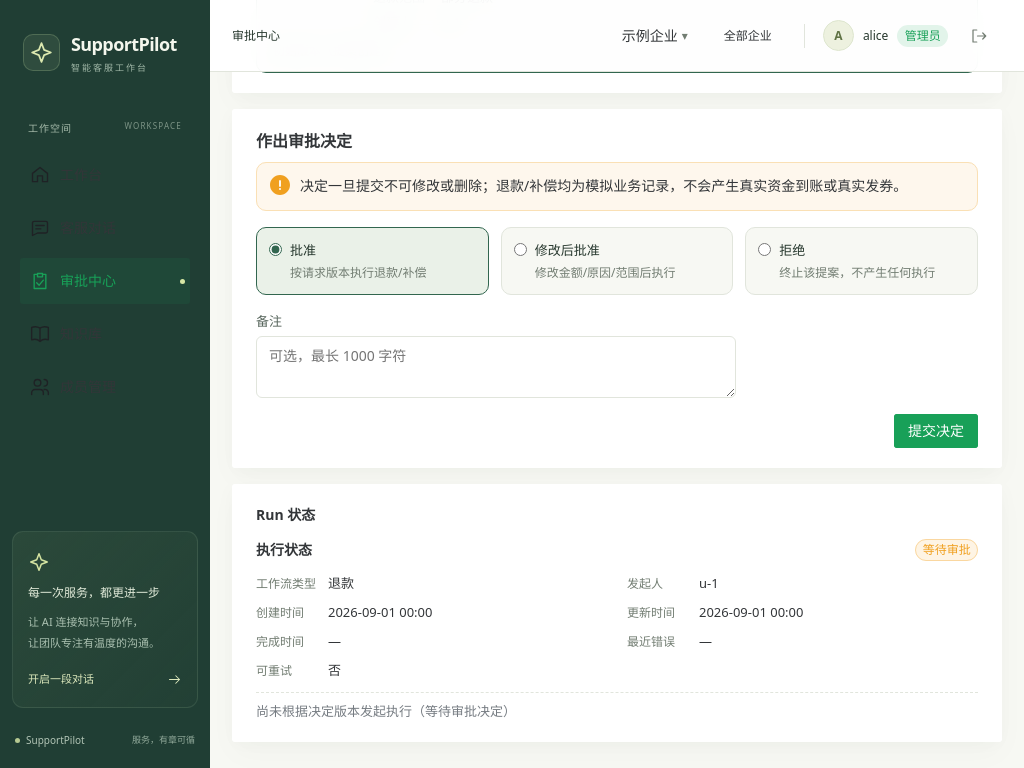
it: ApprovalDetailView 决定流转 › 202：提示决定已保存，保留恢复入口
(page scrolled)
Click the button with test id "submit-decision" at {"x": 936, "y": 431}, box [894,414,978,448]
(page scrolled)
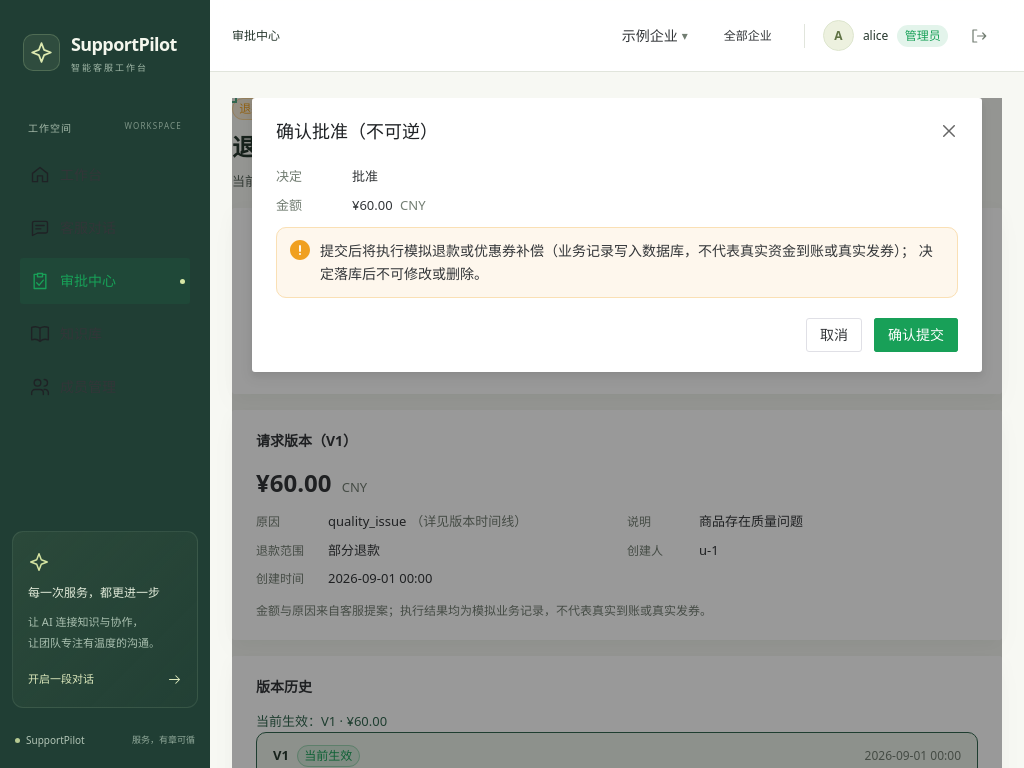
Click the button with test id "confirm-decision" at {"x": 916, "y": 335}, box [874,318,958,352]
(page scrolled)
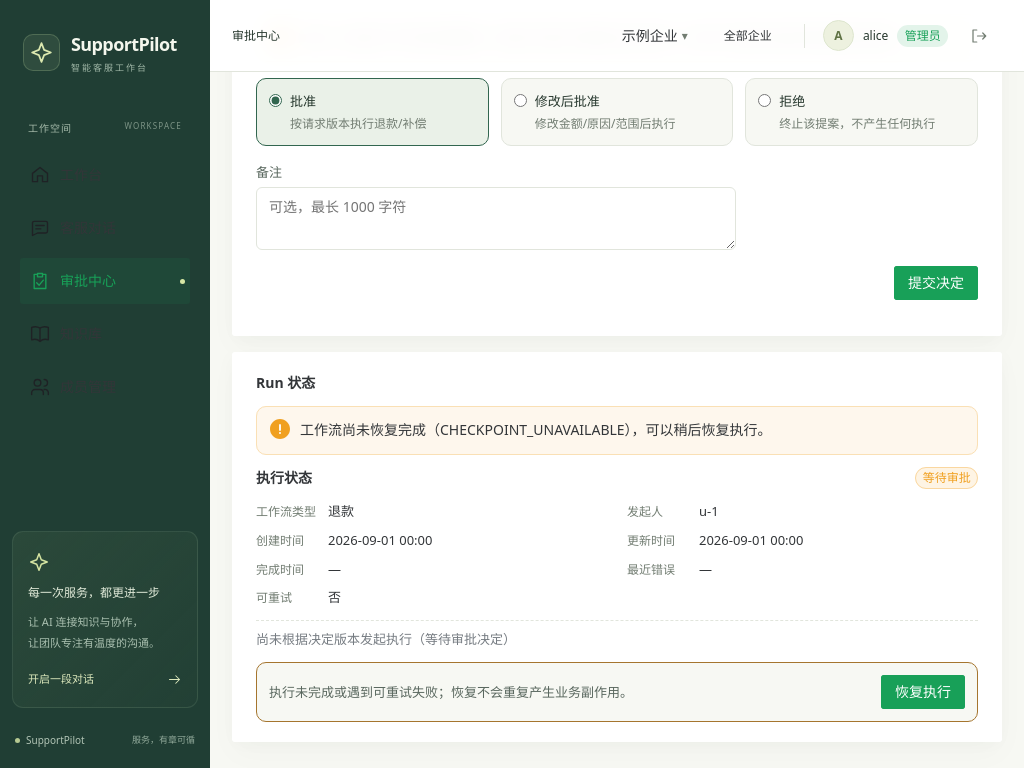
Expected: the element with test id "resume-row" is shown, [256,662,978,722]
Expected: the text "CHECKPOINT_UNAVAILABLE" is shown, [300,420,772,439]
